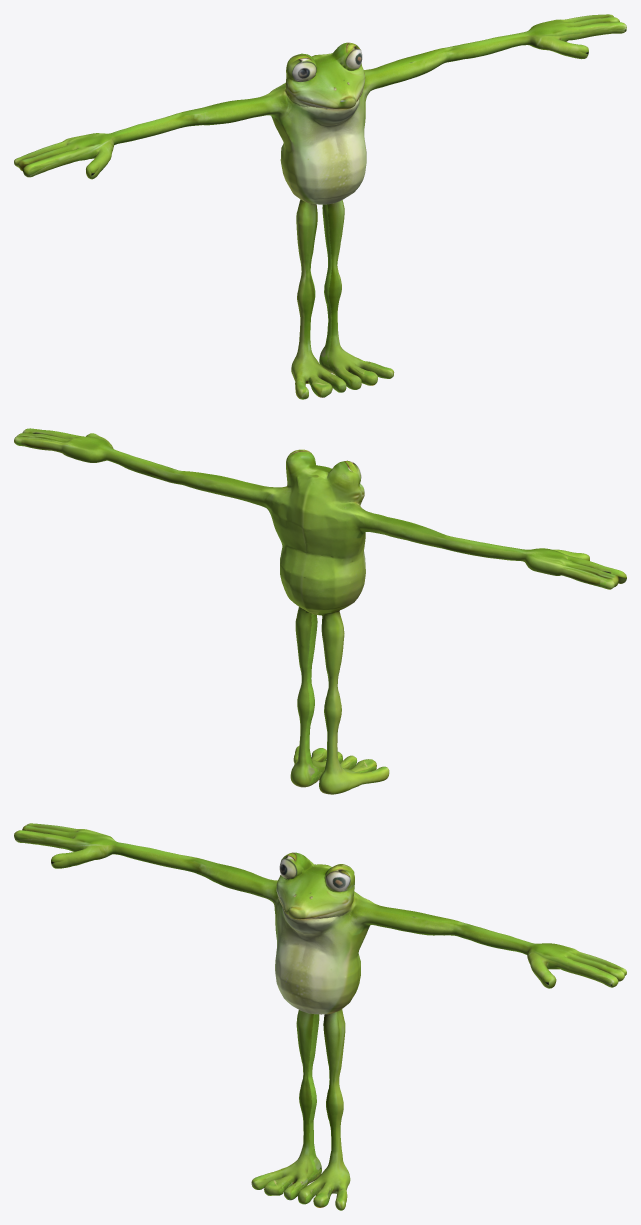
Rendered from FROG.fbx.
The picture shows the model from 3 angles, top to bottom: view 1: azimuth 30°, elevation 25°; view 2: azimuth 150°, elevation 25°; view 3: azimuth 330°, elevation 25°; orthographic projection.
Parts seen in each view (by area): view 1: Mesh_0.142; view 2: Mesh_0.142; view 3: Mesh_0.142.
Boxes of the visible parts, box(x1,y1,x2,y2) form: Mesh_0.142: box(14, 14, 626, 399); Mesh_0.142: box(14, 428, 626, 794); Mesh_0.142: box(14, 823, 626, 1210).
Size of the model in its own units: 199 by 103 by 27.17.
1 material, 1 textured.
